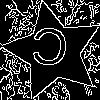C: (28, 27, 70, 76)
